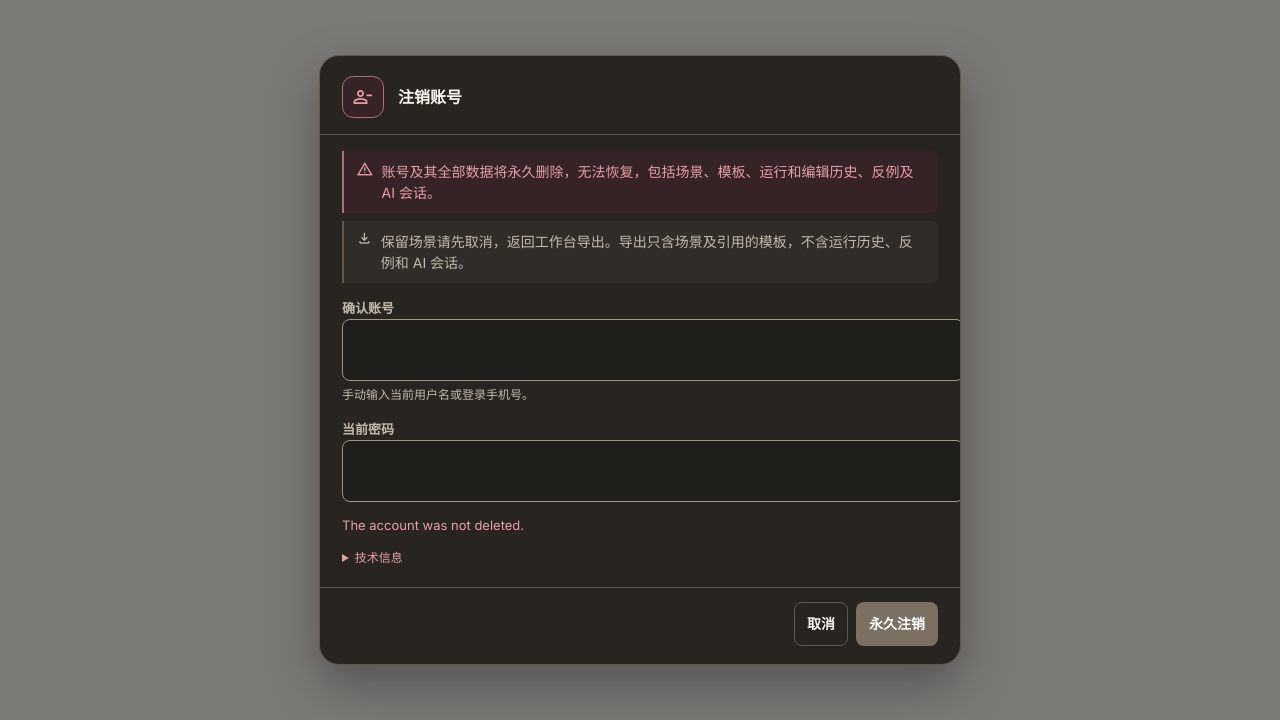
Test: AccountDeleteDialog confirmation gate › keeps raw rejection diagnostics in a closed disclosure and clears them on correction or cancel
Step 1. Type "CorrectedPassword123" into the password field labelled "当前密码" → (653, 471), box [342,440,964,502]
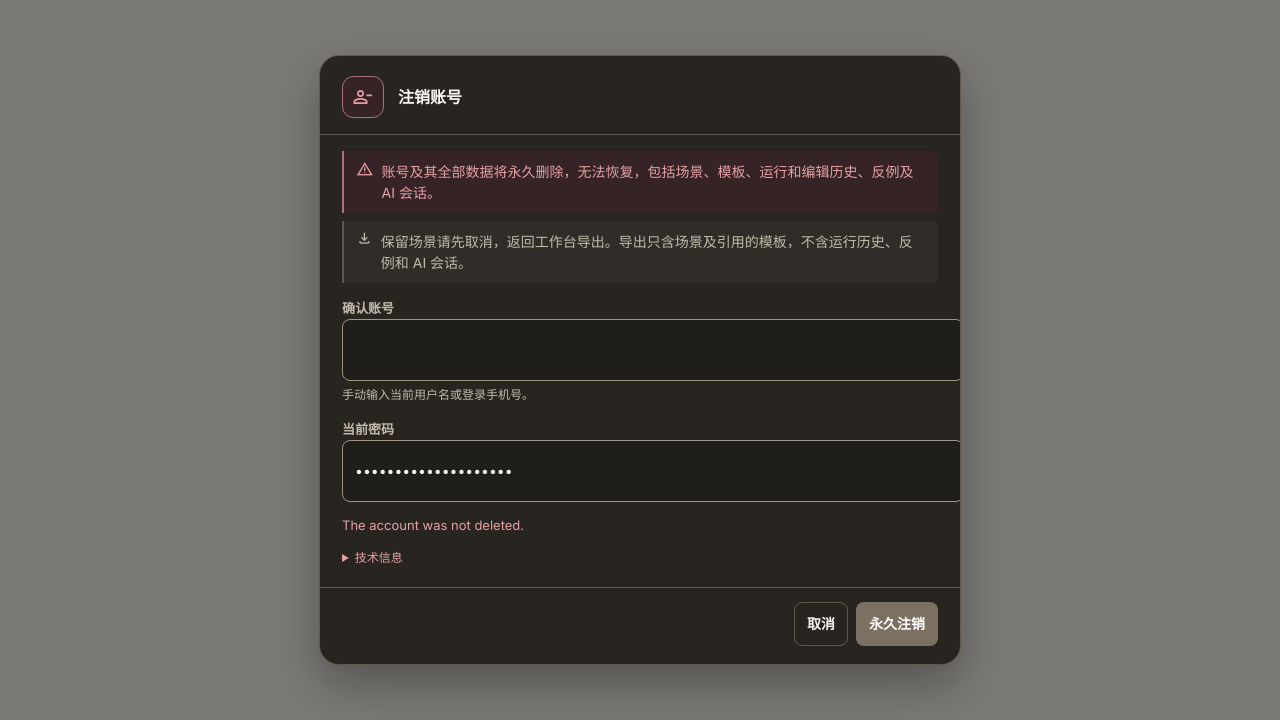
Step 2. Type "alice" into the field named "delete-account-confirmation" → (653, 350), box [342,319,964,381]
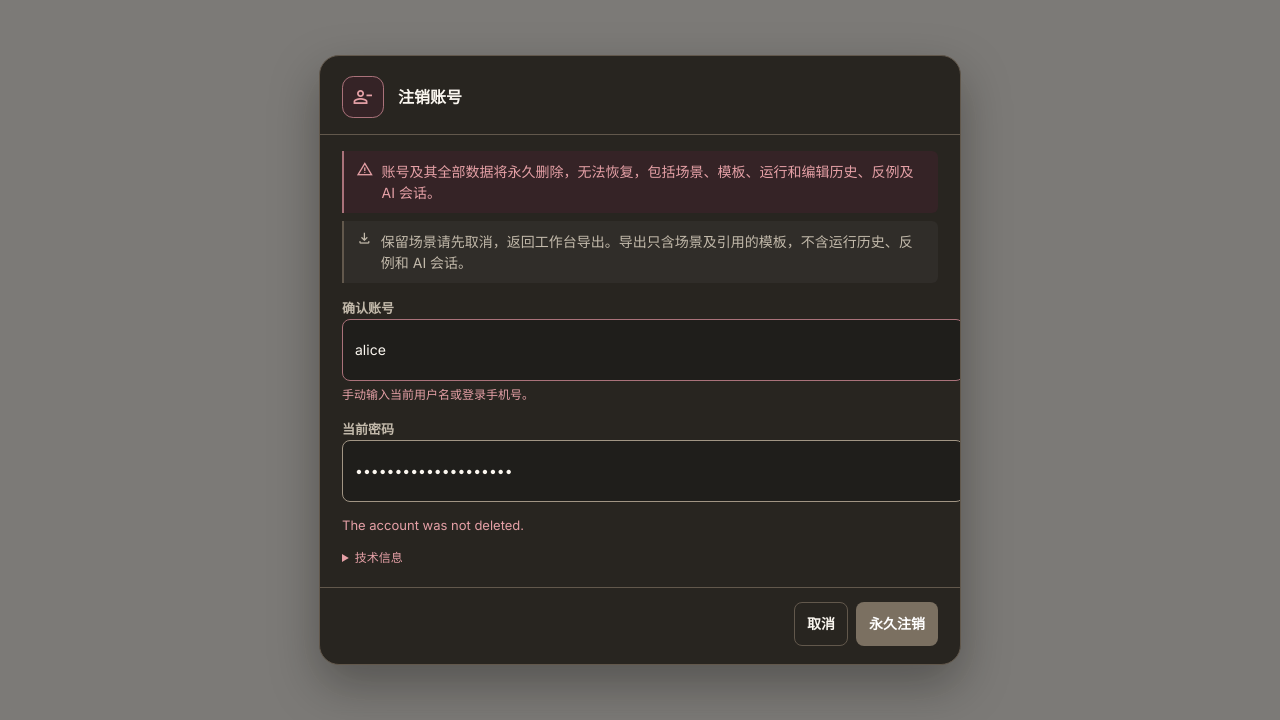
Step 3. Click the button with test id "account-delete-cancel" → (821, 624), box [794,602,848,646]
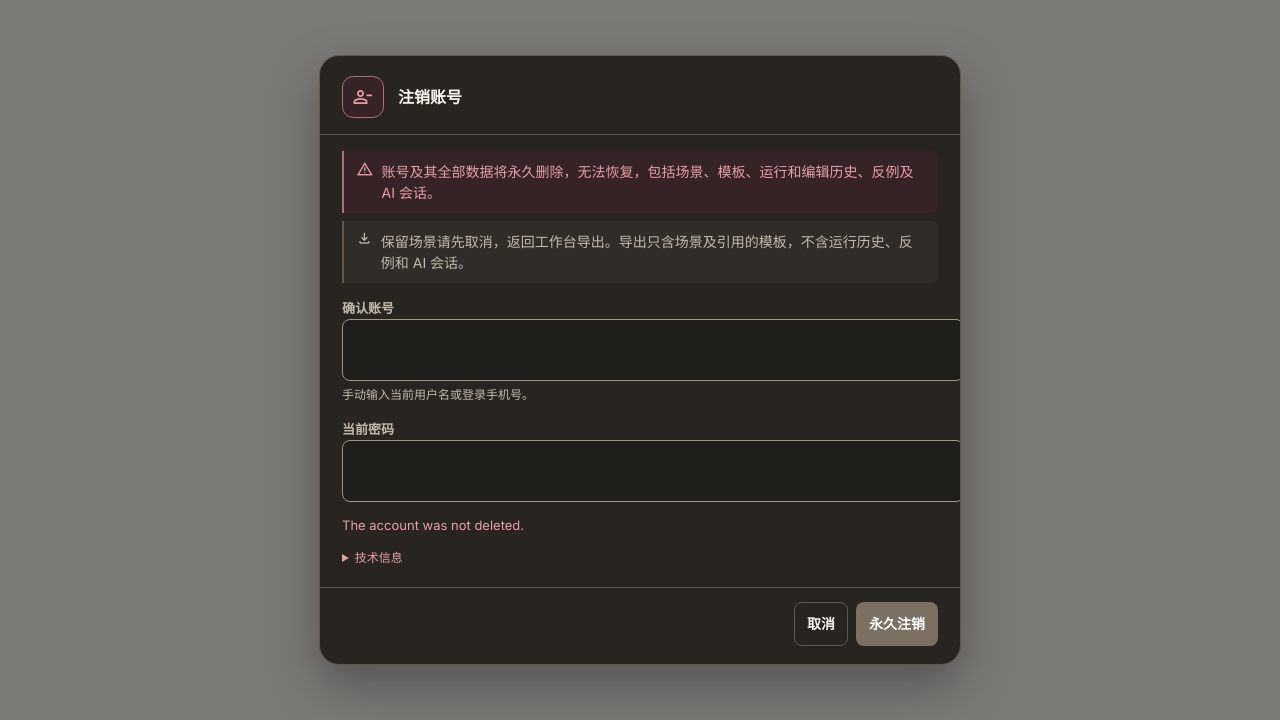
Now the password field labelled "当前密码" is empty, box [342,440,960,502]
